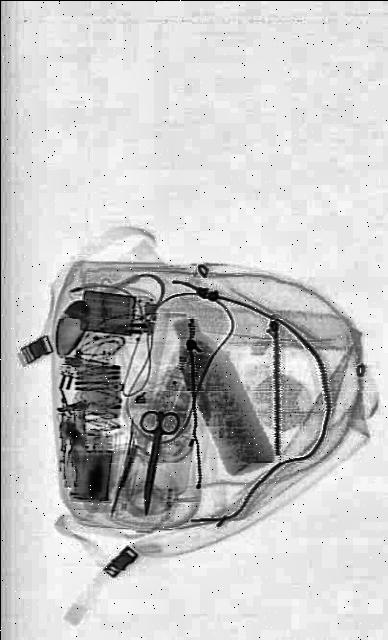Scissors: (126, 401, 178, 519)
